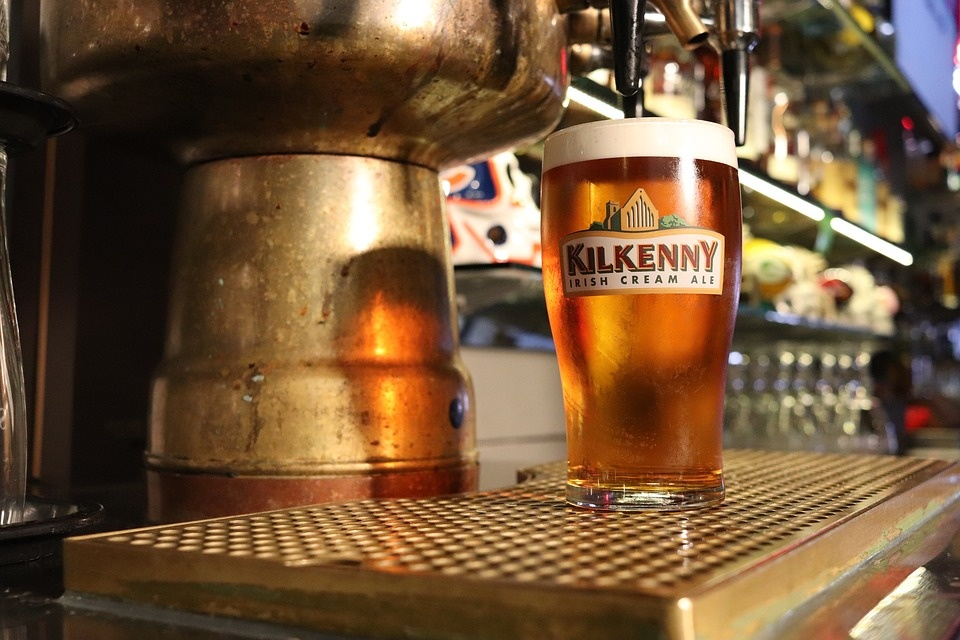glassBeer: (552, 112, 745, 505)
